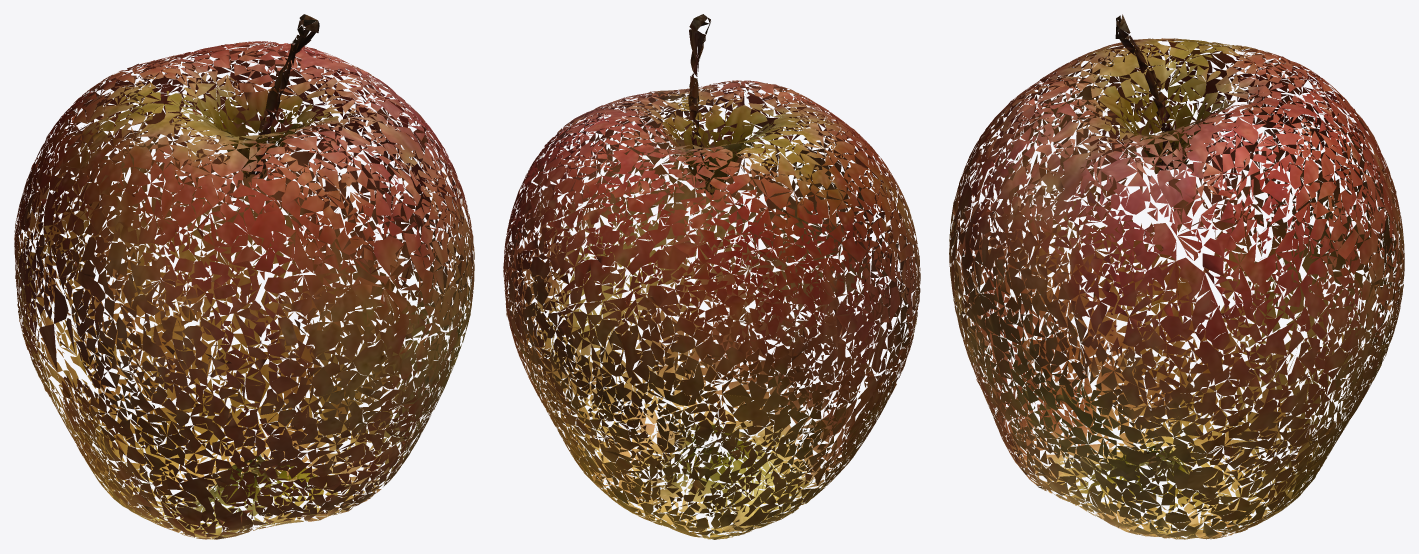
File: apple.glb
3 views of the same model, side by side, from view 1: azimuth 30°, elevation 25°; view 2: azimuth 150°, elevation 25°; view 3: azimuth 270°, elevation 25° (orthographic). The views are drawn at different scales.
Parts seen in each view (by area): view 1: apple; view 2: apple; view 3: apple.
Boxes of the visible parts, x1,y1,x2,y2 form: apple: (14, 14, 474, 539); apple: (503, 14, 920, 539); apple: (949, 14, 1404, 539).
Bounding box in the file's own units: 2 × 2.5 × 1.99.
Materials: 1 (1 with a texture image).
